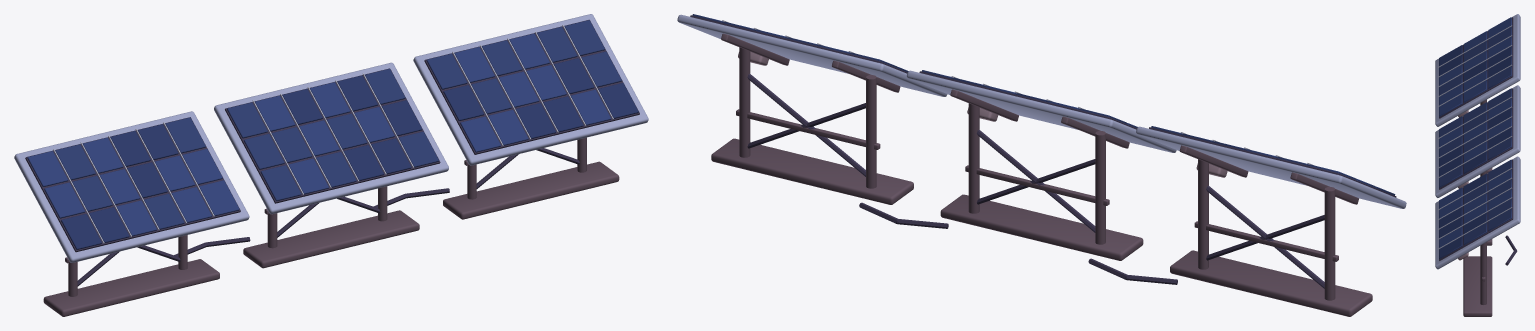
The model's file is solar_row.glb.
The picture shows the model from 3 angles, left to right: view 1: azimuth 30°, elevation 25°; view 2: azimuth 150°, elevation 25°; view 3: azimuth 270°, elevation 25°; orthographic projection. The views are drawn at different scales.
Parts seen in each view (by area): view 1: solar_row; view 2: solar_row; view 3: solar_row.
Part boxes in pixels (bbox=[...]): solar_row: bbox=[14, 14, 648, 316]; solar_row: bbox=[677, 14, 1406, 316]; solar_row: bbox=[1435, 14, 1520, 316].
Bounding box in the file's own units: 8.4 × 1.93 × 1.47.
